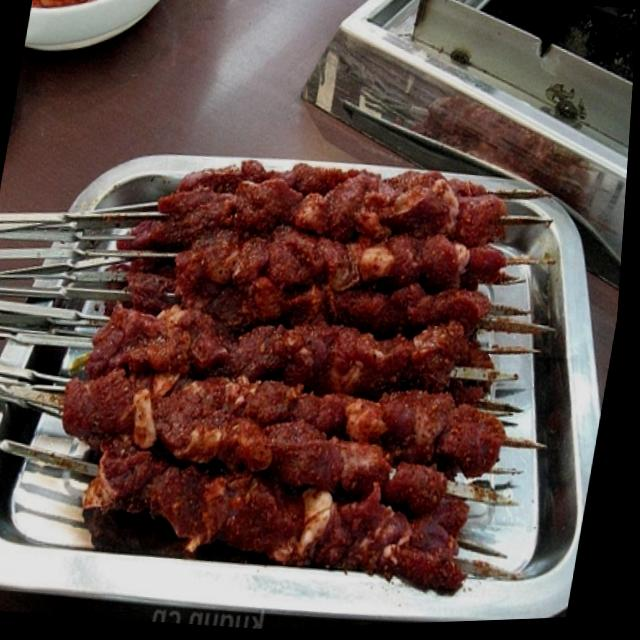烧串烤肉: (0, 76, 635, 639)
